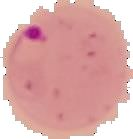parasitized: (9, 18, 67, 54)
